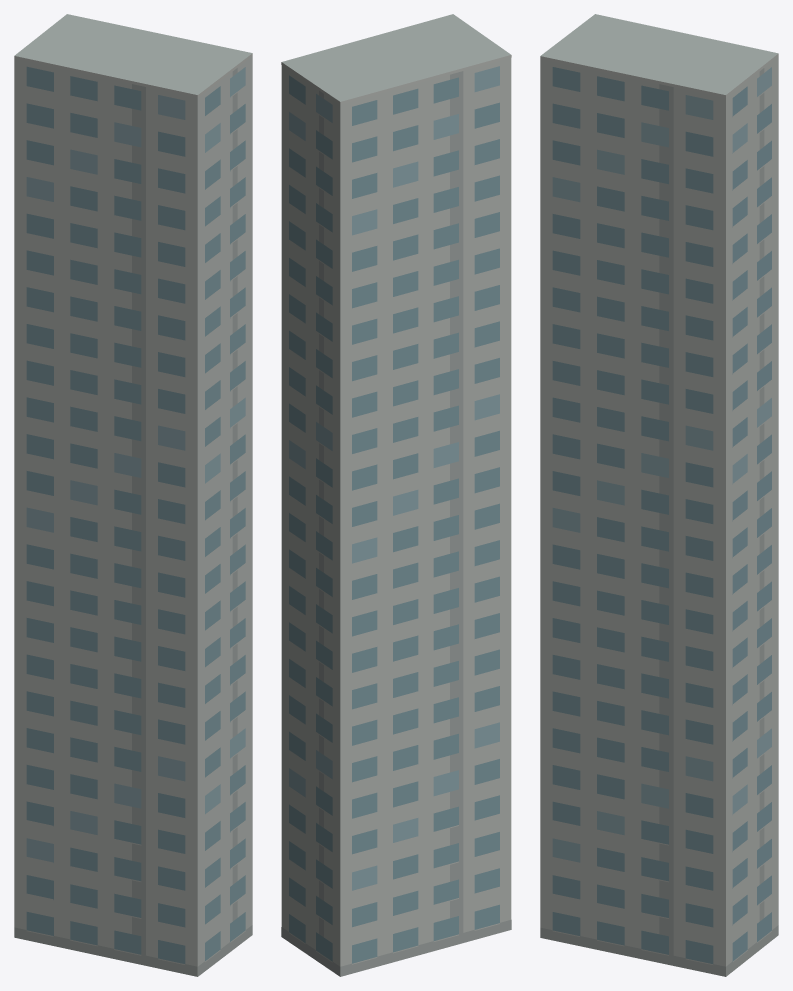
Rendered from survey-upis-32782486.glb.
3 renders of one model, left to right at view 1: azimuth 90°, elevation 25°; view 2: azimuth 150°, elevation 25°; view 3: azimuth 270°, elevation 25°, orthographic.
Visible parts, largest first — view 1: survey-upis-32782486.tmp; view 2: survey-upis-32782486.tmp; view 3: survey-upis-32782486.tmp.
Part boxes in pixels (x1,y1,x2,y2): survey-upis-32782486.tmp: (14,14,252,976); survey-upis-32782486.tmp: (281,14,511,976); survey-upis-32782486.tmp: (540,14,778,976).
Bounding box in the file's own units: 14.46 × 73.2 × 17.95.
